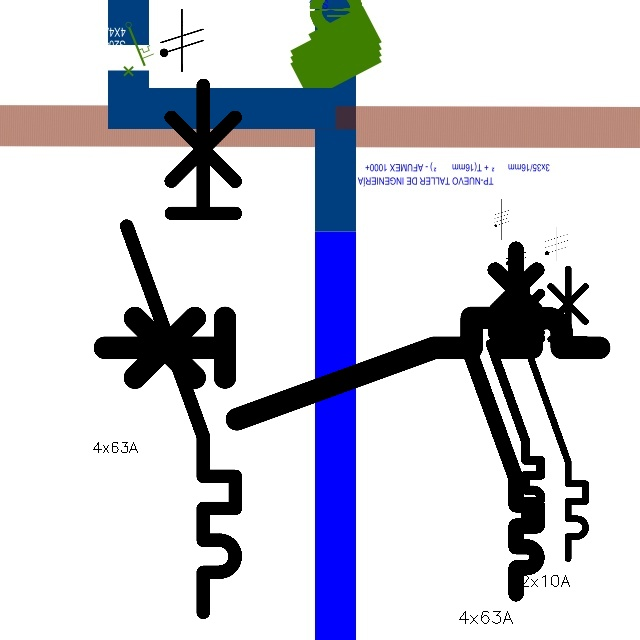interruptor_termomagnetico: (113, 71, 249, 625), (92, 305, 612, 432), (457, 240, 546, 603), (519, 261, 593, 565), (484, 272, 547, 530)
